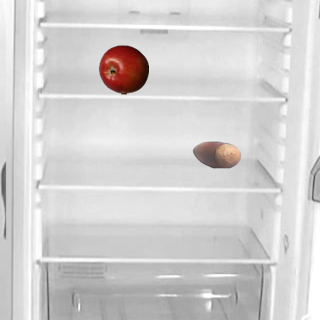Apple Braeburn: (98, 44, 148, 94)
Hazelnut: (191, 129, 241, 179)
